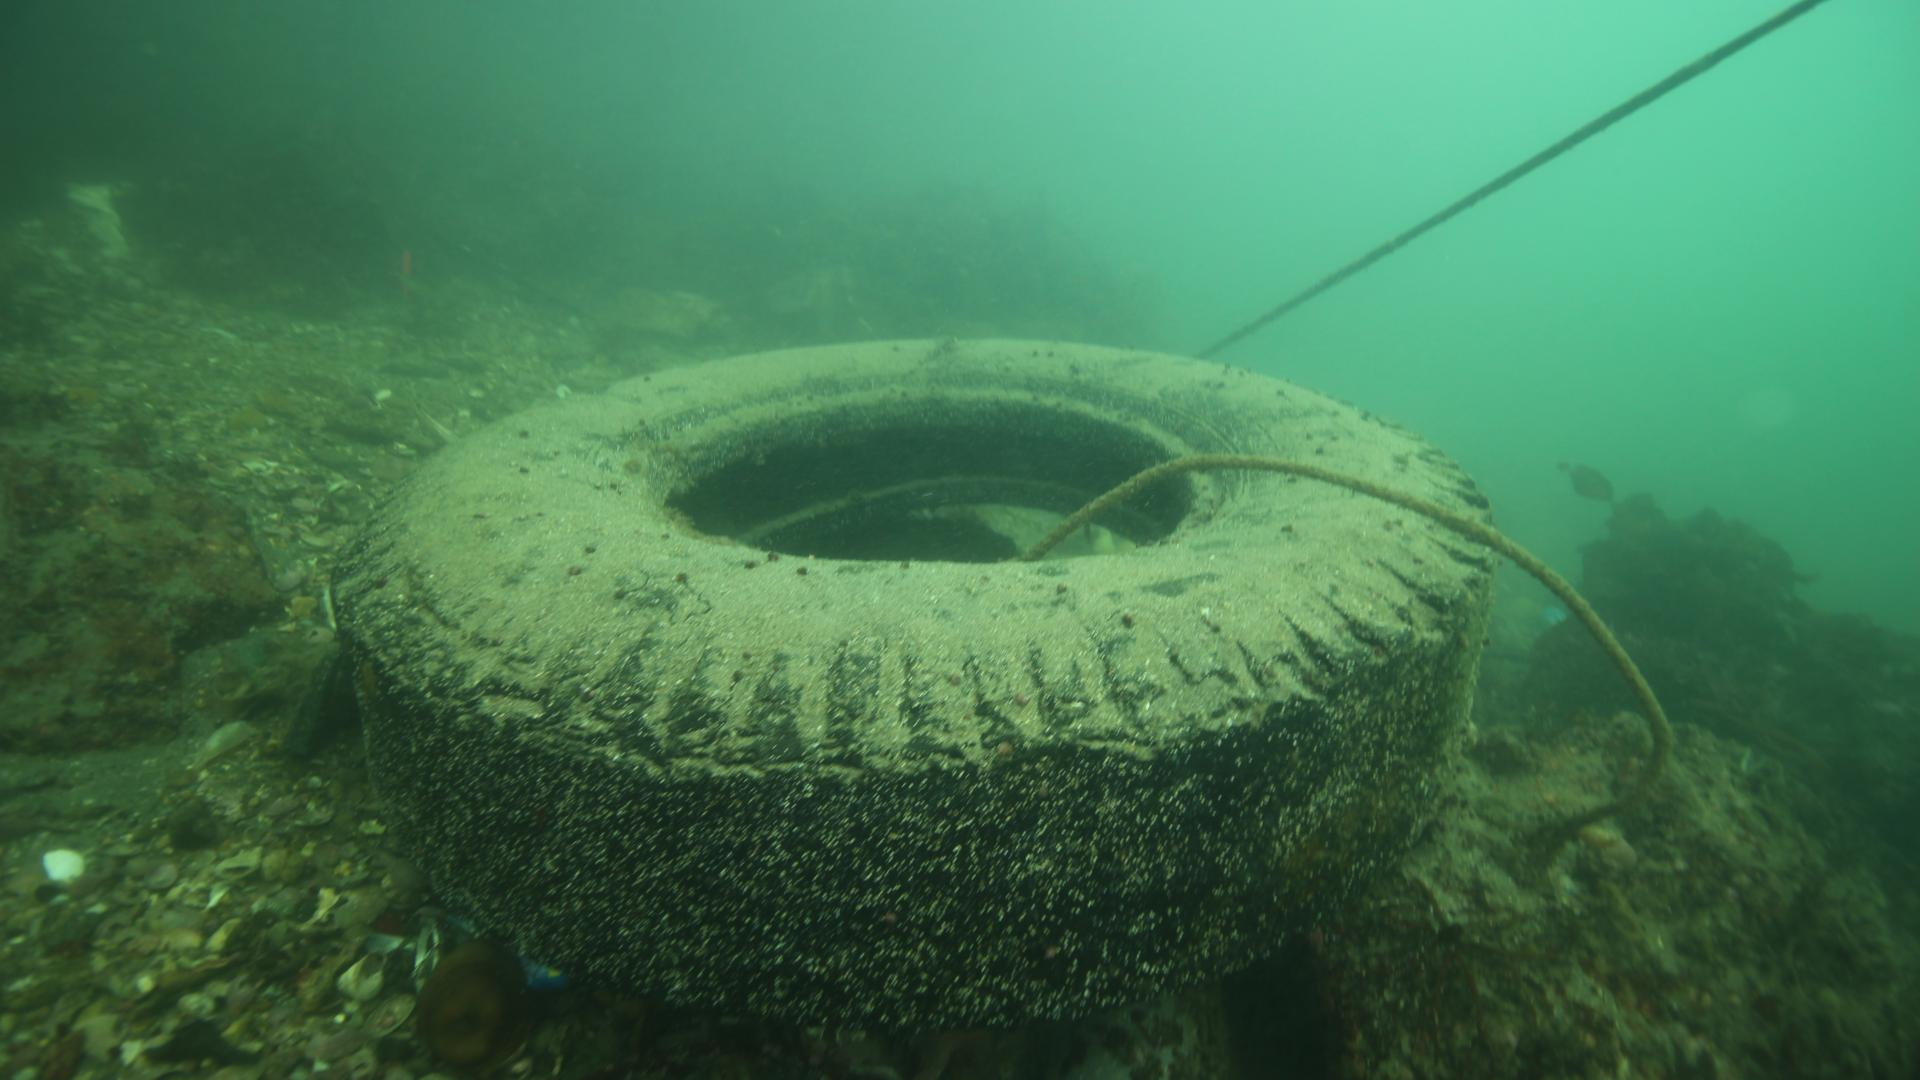rope: (1015, 448, 1679, 765)
tire: (324, 334, 1501, 1044)
